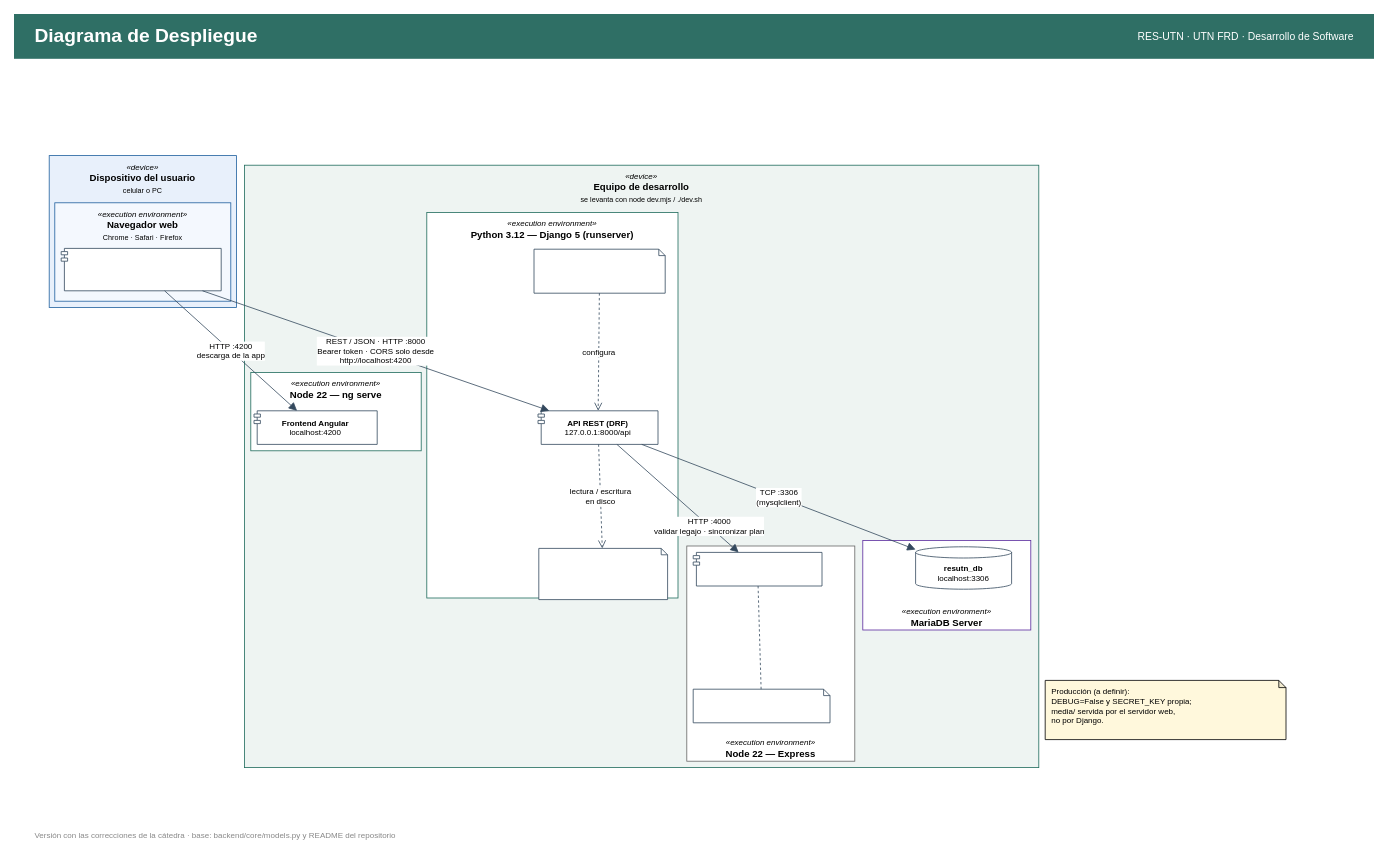
The diagram is 1387 pixels wide and 858 high, and some of its shapes have lost their labels. Here are the shapes that lost their labels. From the top down, the centre of each, then its label:
point 140,269: PWA RES-UTN build de Angular + Tailwind Service Worker · manifest
point 599,270: backend/.env credenciales de la BD (fuera de git)
point 603,574: backend/media/ archivos subidos (fuera de git)
point 757,569: Mock de SySACAD localhost:4000
point 761,705: data/alumnos.json 11 alumnos de prueba
